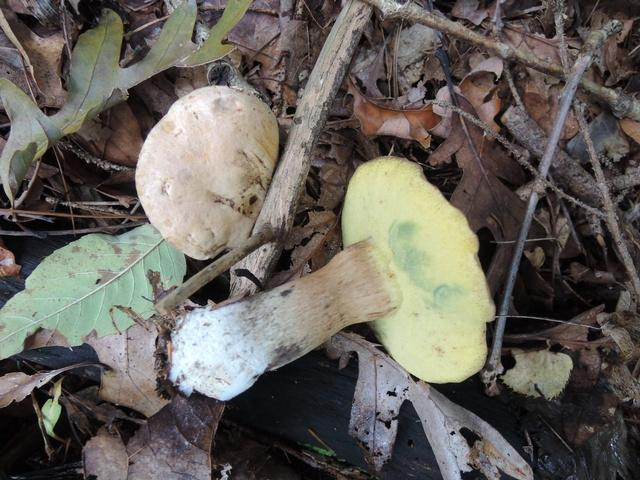edible_mushroom: (167, 158, 488, 398), (133, 83, 280, 261)
